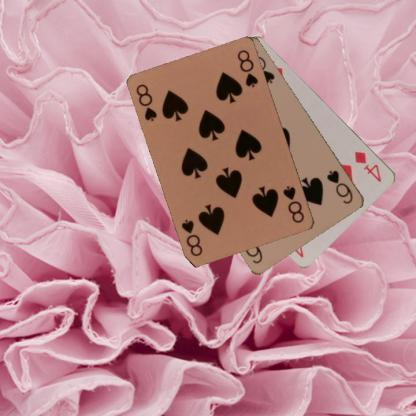4d: (352, 148, 383, 184)
6s: (324, 168, 355, 206)
8s: (280, 183, 306, 225), (133, 82, 159, 123)
